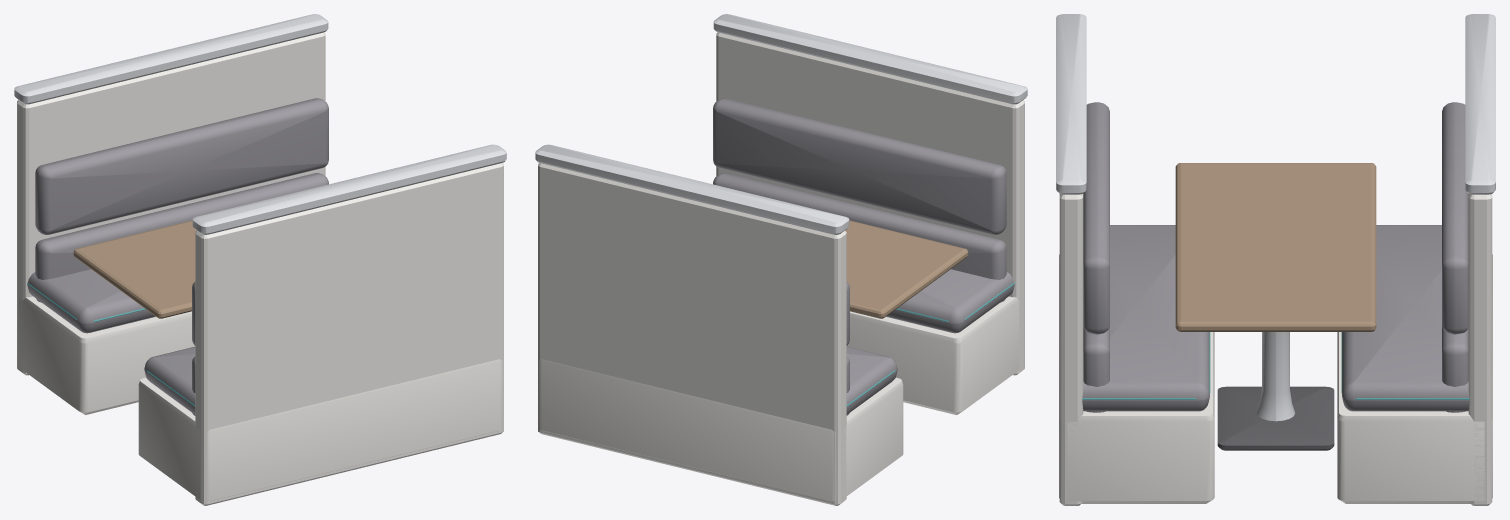
Rendered from fast-food-and-drive-thru-fixed-booth-4-seat-cae1de7b__16215.glb.
The picture shows the model from 3 angles, left to right: view 1: azimuth 30°, elevation 25°; view 2: azimuth 150°, elevation 25°; view 3: azimuth 270°, elevation 25°; orthographic projection. The views are drawn at different scales.
Visible parts, largest first — view 1: fixed-booth-4-seat; view 2: fixed-booth-4-seat; view 3: fixed-booth-4-seat.
Part boxes in pixels (x1,y1,x2,y2): fixed-booth-4-seat: (14, 14, 506, 505); fixed-booth-4-seat: (535, 14, 1027, 505); fixed-booth-4-seat: (1056, 14, 1495, 505).
Bounding box in the file's own units: 1.46 × 1.29 × 1.58.
